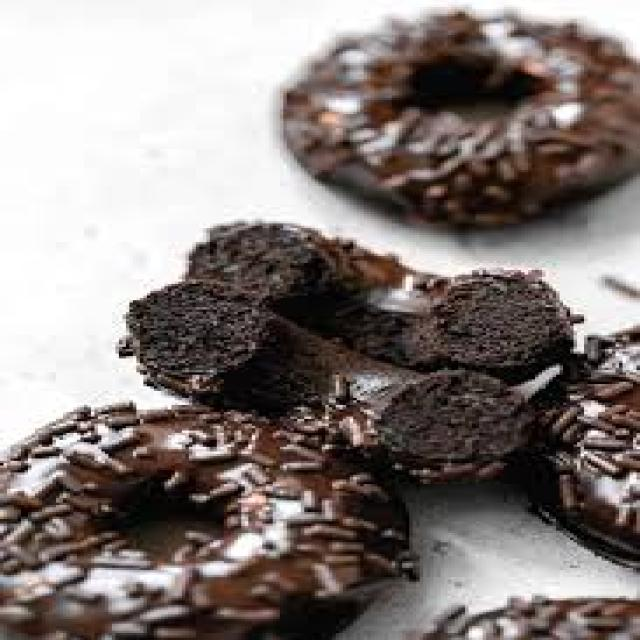Donut: (2, 409, 448, 640), (247, 6, 640, 218)
